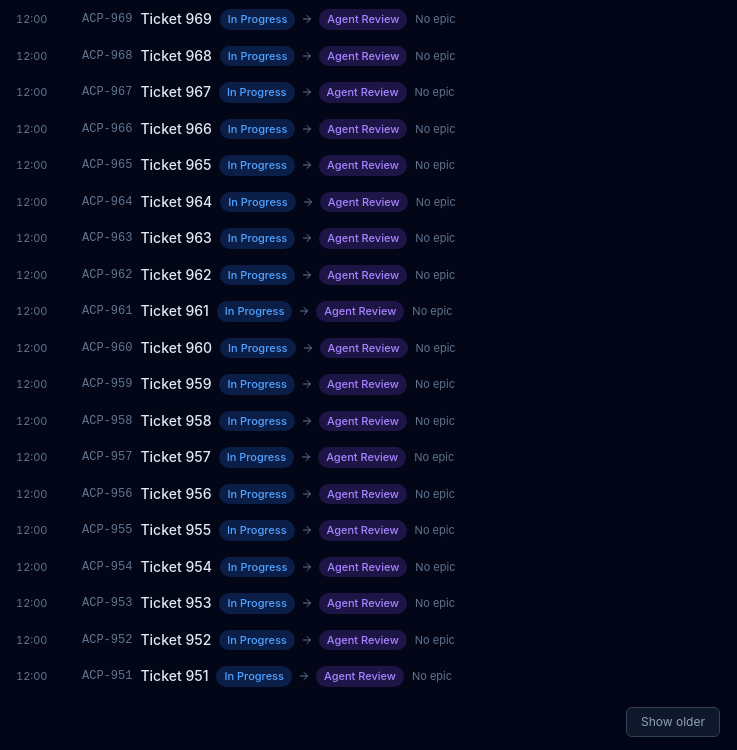
the activity feed › brings in new entries on a live refresh, keeping older pages, and only the new ones glow
(page scrolled)
Click the button "Show older" at point(673, 722), box [626,706,720,736]
Wait 2100 ms
(page scrolled)
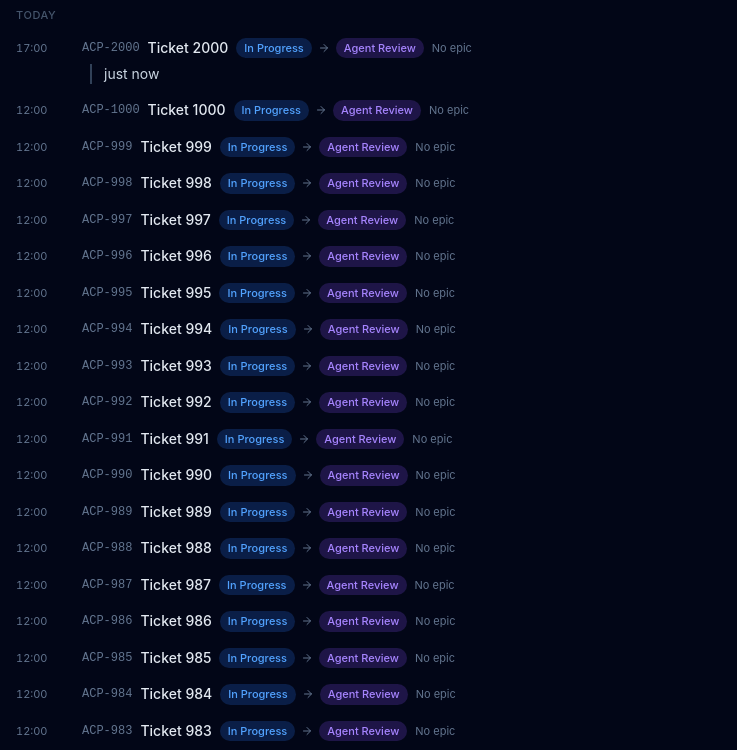
Check: the text with class "font-mono" reads "ACP-2000", box [82,41,140,55]
